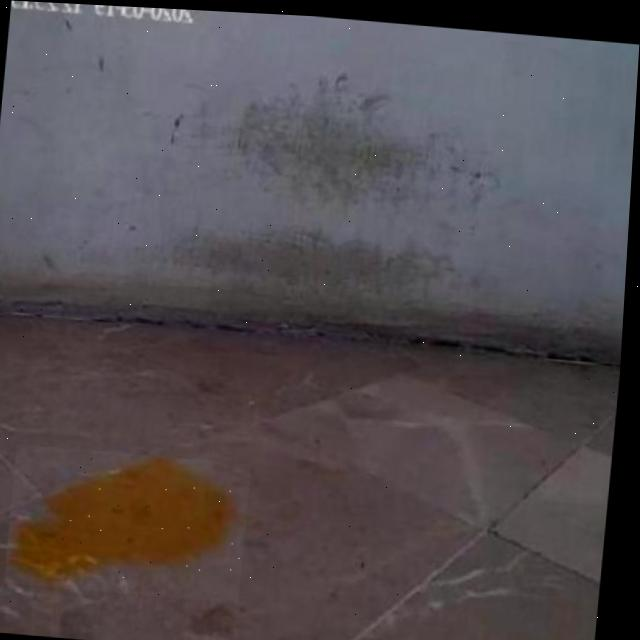spillage: (14, 454, 252, 586)
